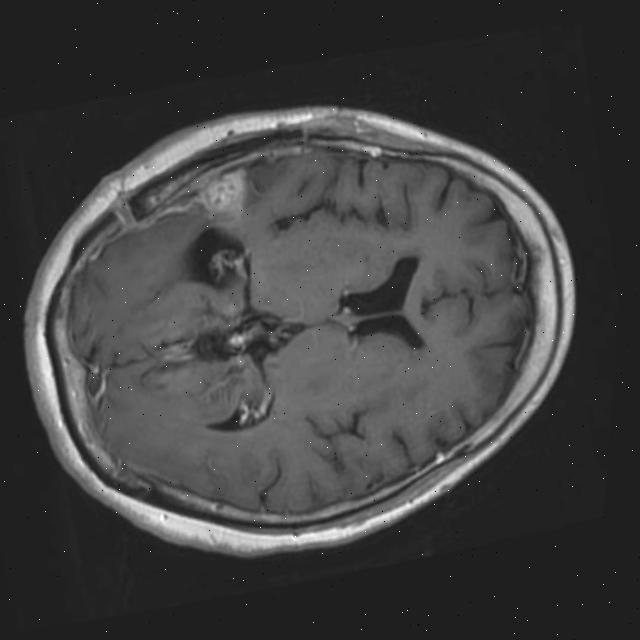Glioma: (190, 163, 255, 225)
